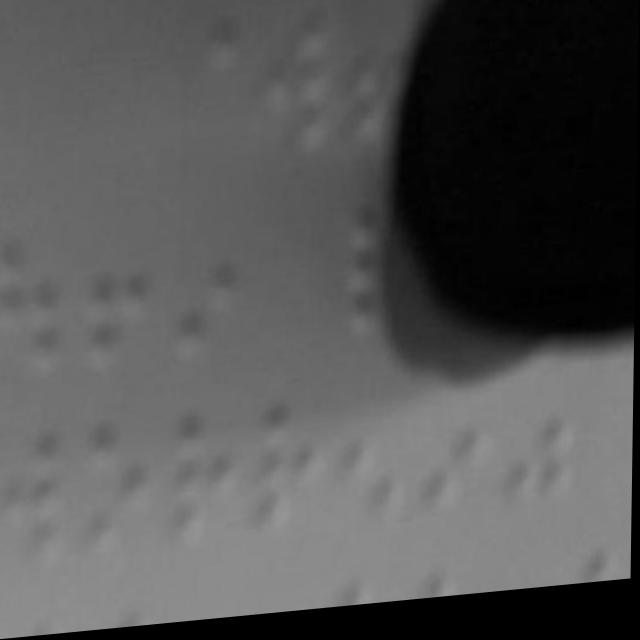braiile: (254, 9, 340, 186), (244, 393, 330, 554), (77, 214, 156, 388), (163, 217, 243, 387), (69, 415, 155, 572), (159, 407, 241, 567), (502, 362, 582, 525), (421, 370, 497, 536), (341, 388, 414, 543), (0, 228, 64, 403), (0, 430, 67, 590)
